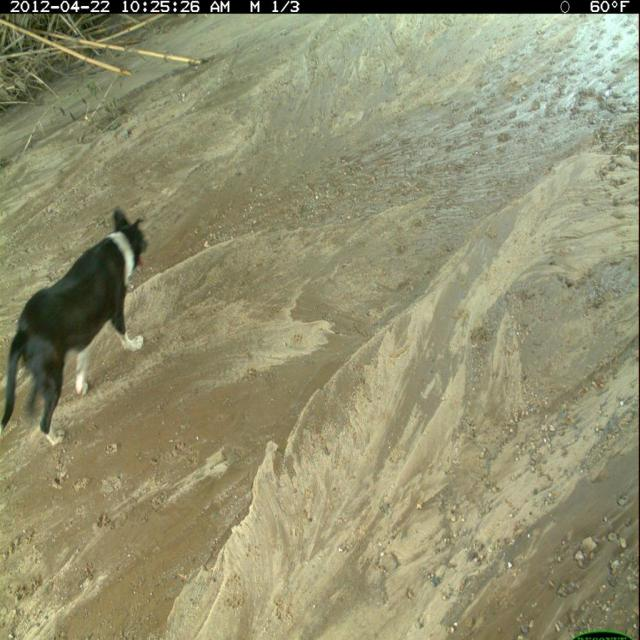dog: (1, 202, 152, 450)
